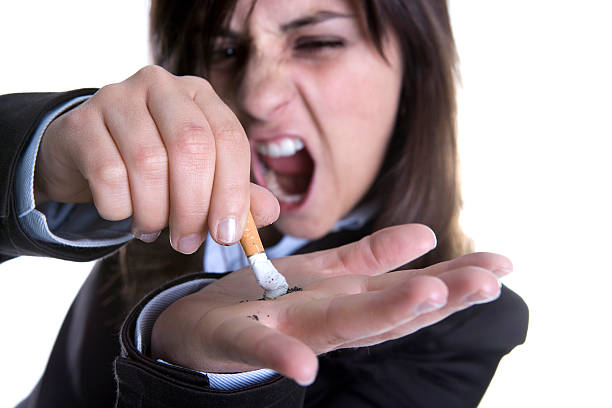cigarette: (238, 209, 290, 297)
